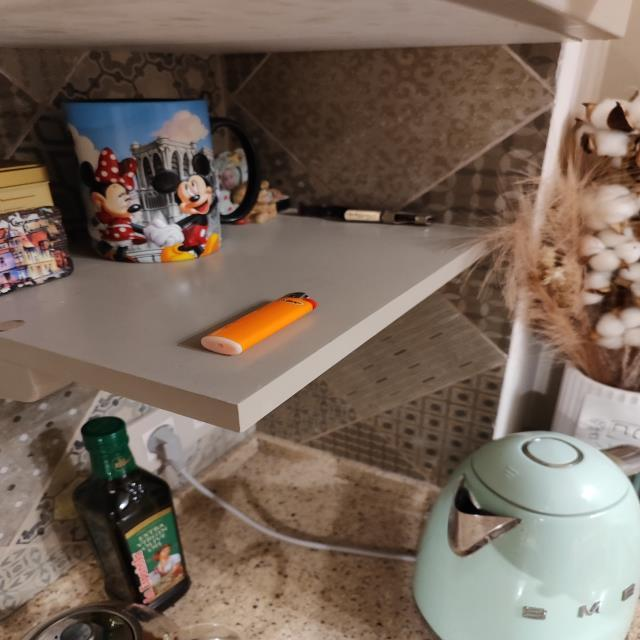lighter: (201, 293, 317, 354)
